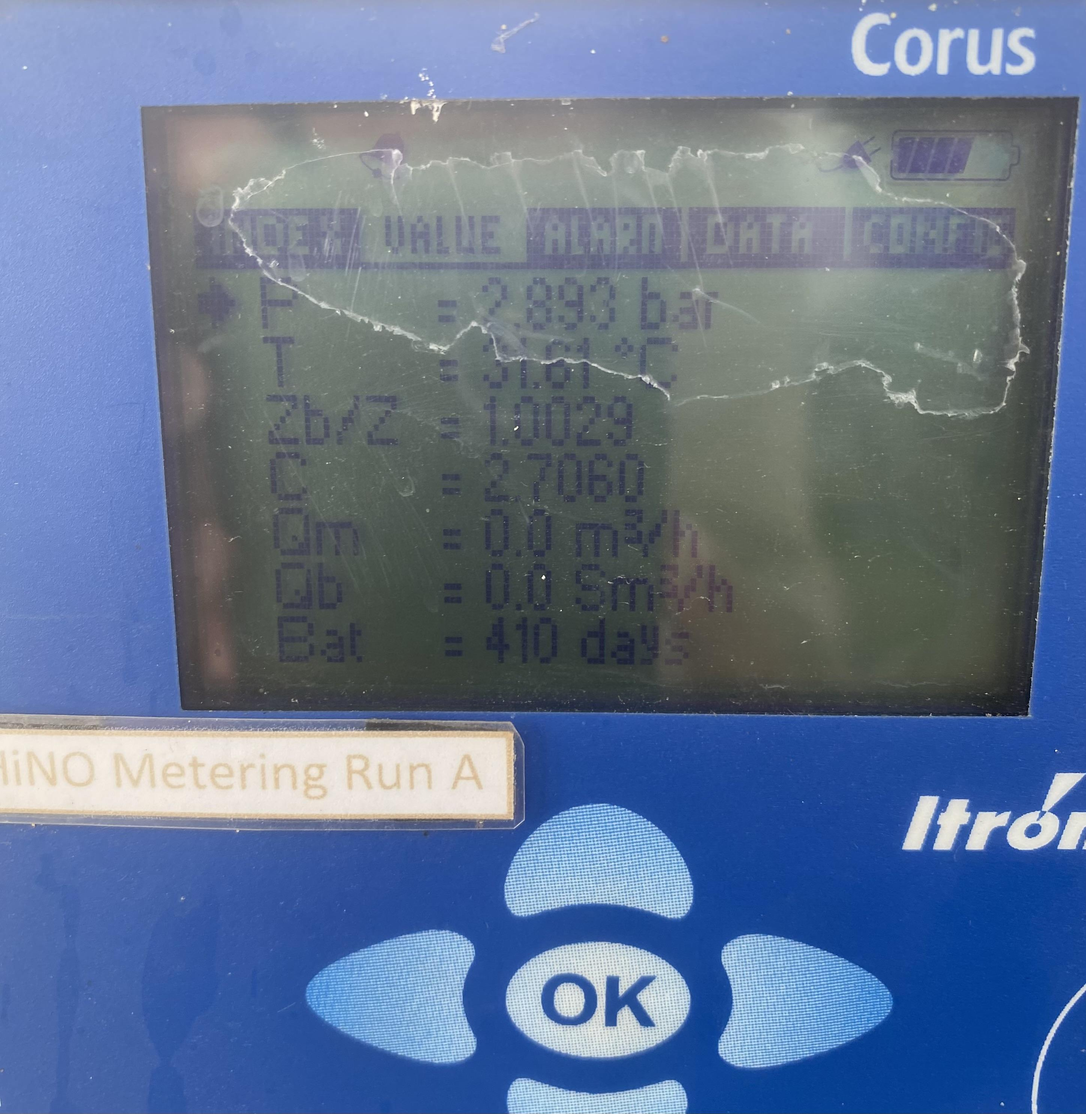digital_screen: (142, 97, 1086, 728)
